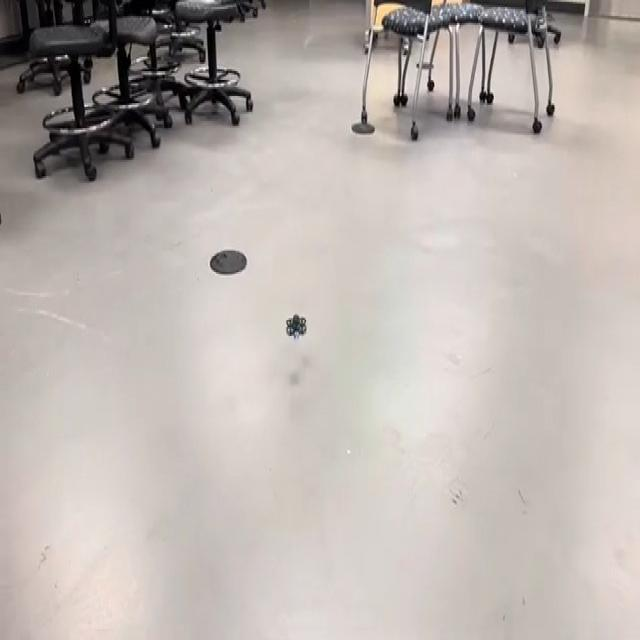drone: (277, 304, 314, 348)
